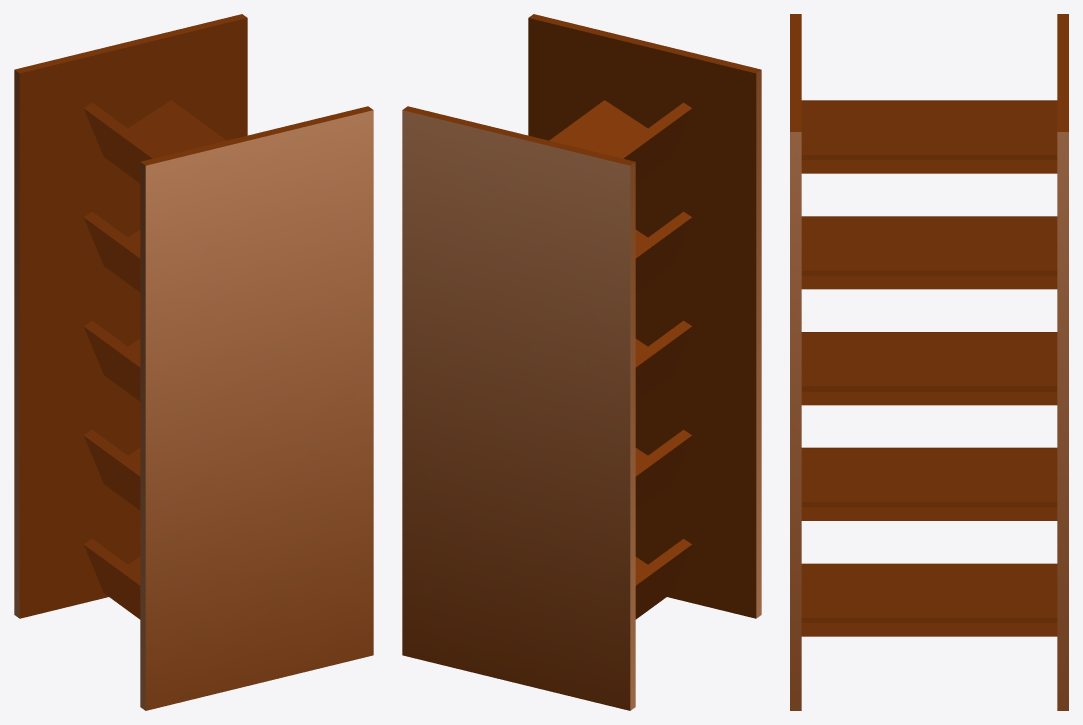
Rendered from Wall_Shelf_A.obj.
The picture shows the model from 3 angles, left to right: view 1: azimuth 30°, elevation 25°; view 2: azimuth 150°, elevation 25°; view 3: azimuth 270°, elevation 25°; orthographic projection. The views are drawn at different scales.
Parts seen in each view (by area): view 1: Wall_Shelf_A_Cube.021; view 2: Wall_Shelf_A_Cube.021; view 3: Wall_Shelf_A_Cube.021.
Boxes of the visible parts, x1,y1,x2,y2 form: Wall_Shelf_A_Cube.021: [14, 14, 373, 710]; Wall_Shelf_A_Cube.021: [402, 14, 761, 710]; Wall_Shelf_A_Cube.021: [790, 14, 1068, 710].
Size of the model in its own units: 2 by 4.57 by 2.
